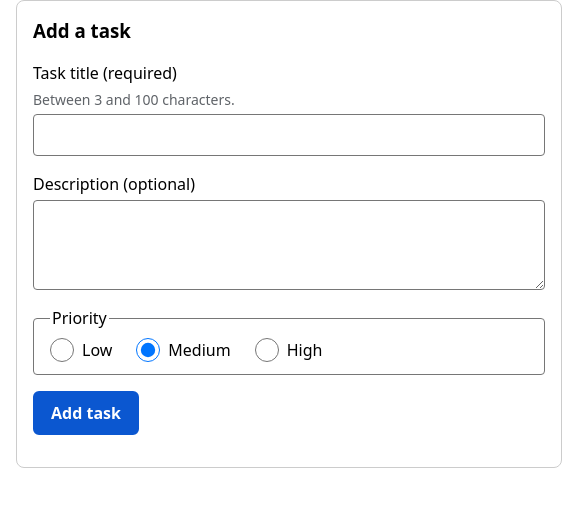
Test: AddTaskForm validation › rejects an empty title: no task is added, the field is invalid, focused and described by the error
The width and height of the screenshot is (579, 515).
Step 1. Click the button "Add task" → (86, 413), box [33, 391, 139, 435]
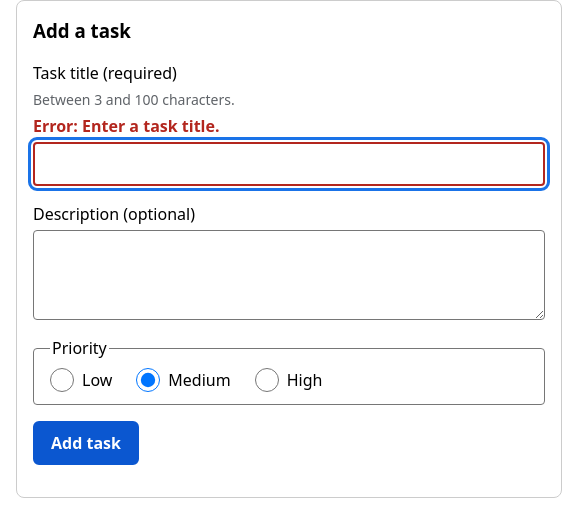
Expected: the text "Error: Enter a task title." is shown, [33, 115, 220, 137]
